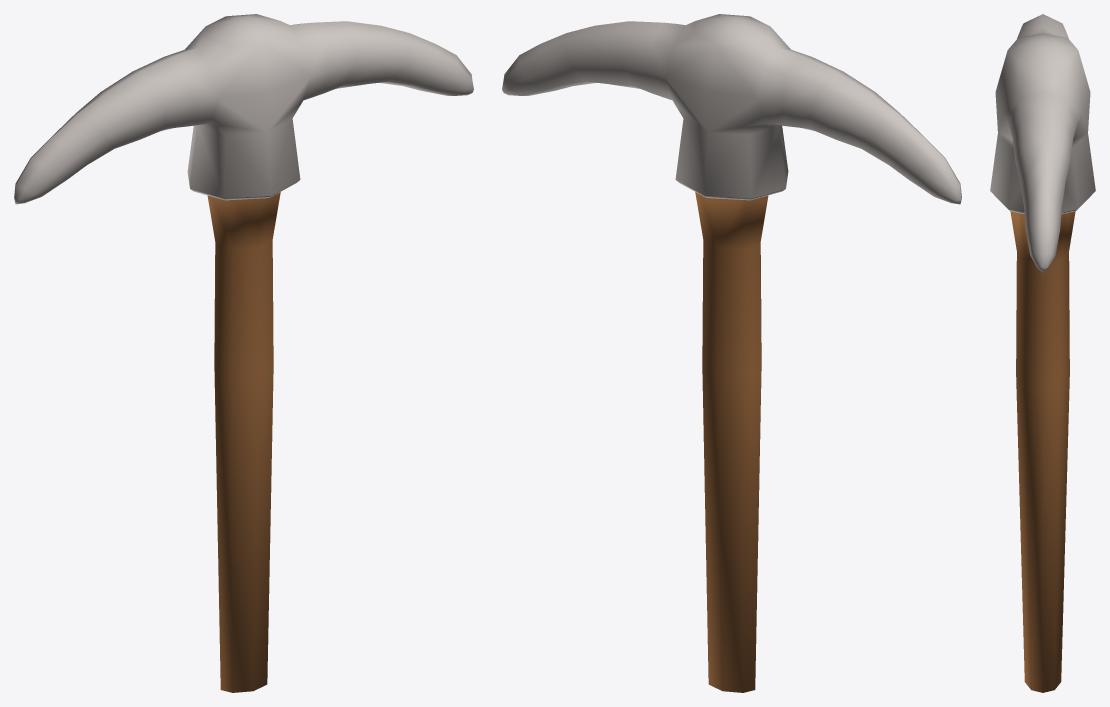
File: pickaxe_lowpoly.fbx
3 views of the same model, side by side, from view 1: azimuth 30°, elevation 25°; view 2: azimuth 150°, elevation 25°; view 3: azimuth 270°, elevation 25° (orthographic). The views are drawn at different scales.
Parts seen in each view (by area): view 1: Pickaxe; view 2: Pickaxe; view 3: Pickaxe.
Boxes of the visible parts, x1=… form: Pickaxe: x1=14, y1=14, x2=473, y2=692; Pickaxe: x1=502, y1=14, x2=961, y2=692; Pickaxe: x1=990, y1=14, x2=1095, y2=692.
Size of the model in its own units: 0.6389 by 0.8953 by 0.1323.
